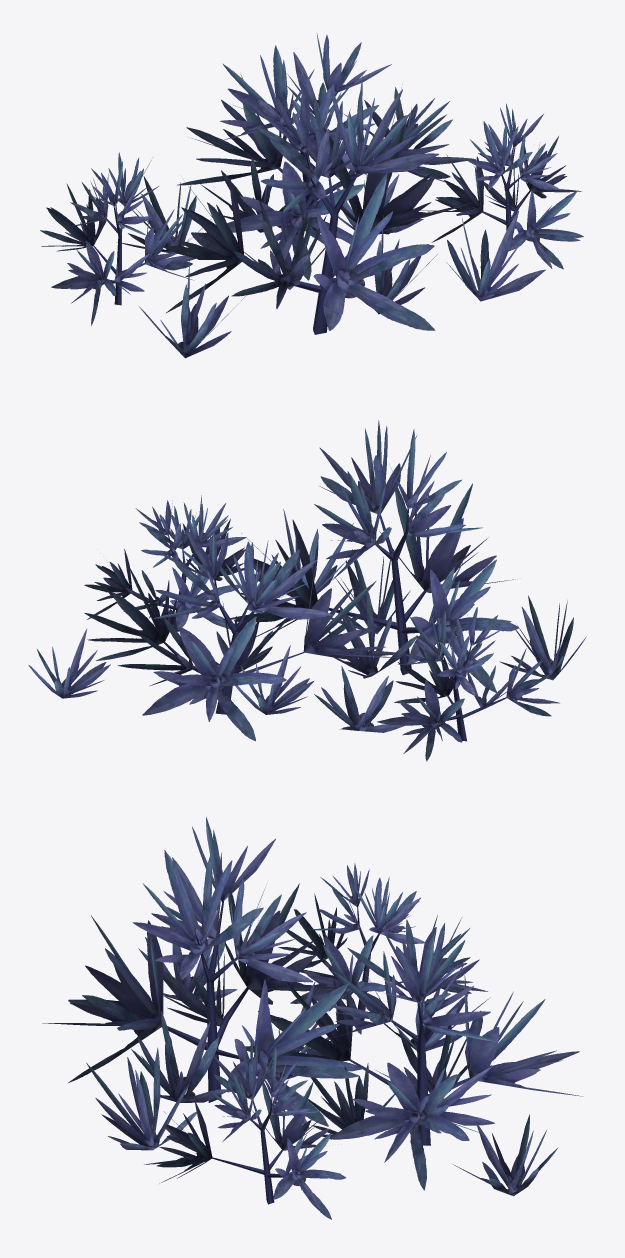
The model's file is shrb_blueleaf_huge_l0.fbx.
3 views of the same model, one above another, from view 1: azimuth 30°, elevation 25°; view 2: azimuth 150°, elevation 25°; view 3: azimuth 270°, elevation 25° (orthographic). The views are drawn at different scales.
Visible parts, largest first — view 1: mesh_node; view 2: mesh_node; view 3: mesh_node.
Part boxes in pixels (x1,y1,x2,y2): mesh_node: (40, 33, 583, 358); mesh_node: (28, 420, 586, 761); mesh_node: (42, 817, 583, 1219).
Bounding box in the file's own units: 5.72 × 2.8 × 5.2.
2 materials, 2 textured.
